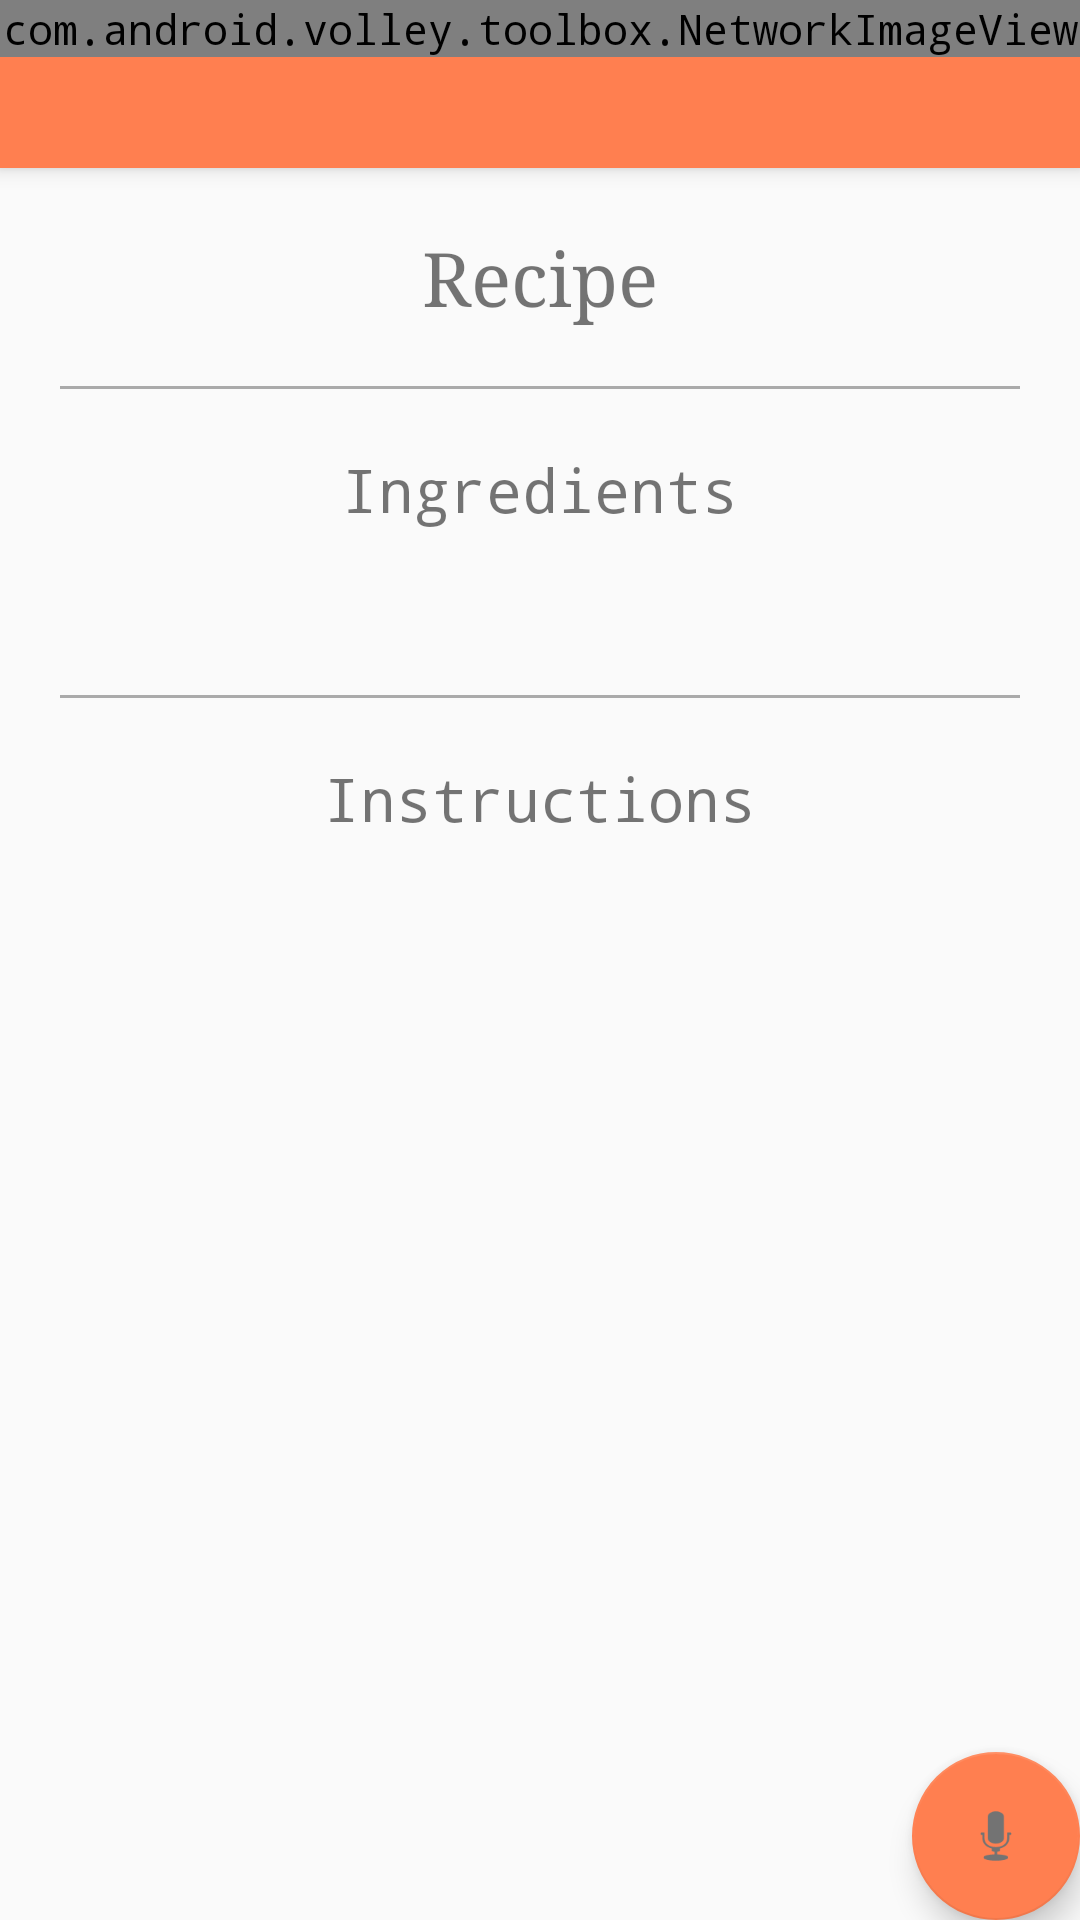

Where to tap for icons on this 1080 x 1920 app screen, as point (x, y):
speak now: point (996, 1836)
